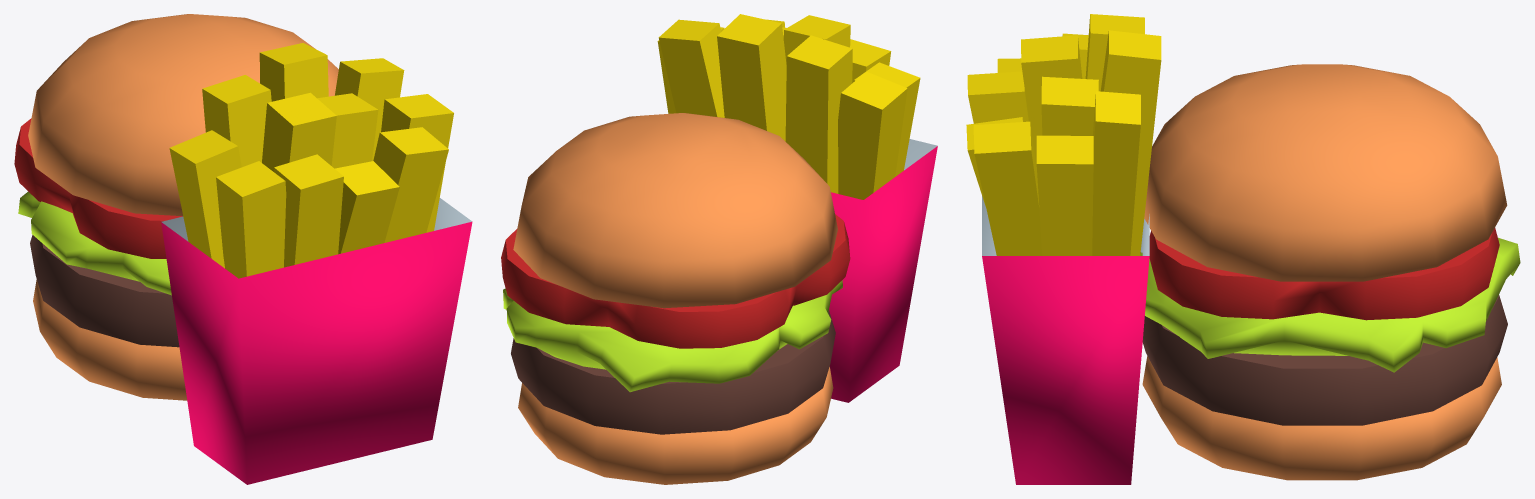
Rendered from Burger2_geo.fbx.
3 renders of one model, left to right at view 1: azimuth 30°, elevation 25°; view 2: azimuth 150°, elevation 25°; view 3: azimuth 270°, elevation 25°, orthographic. The views are drawn at different scales.
Parts seen in each view (by area): view 1: Burger2_geo; view 2: Burger2_geo; view 3: Burger2_geo.
Boxes of the visible parts, box(x1,y1,x2,y2) form: Burger2_geo: box(14, 14, 472, 484); Burger2_geo: box(501, 14, 937, 484); Burger2_geo: box(966, 14, 1520, 484).
Bounding box in the file's own units: 0.463 × 0.6925 × 0.5509.
